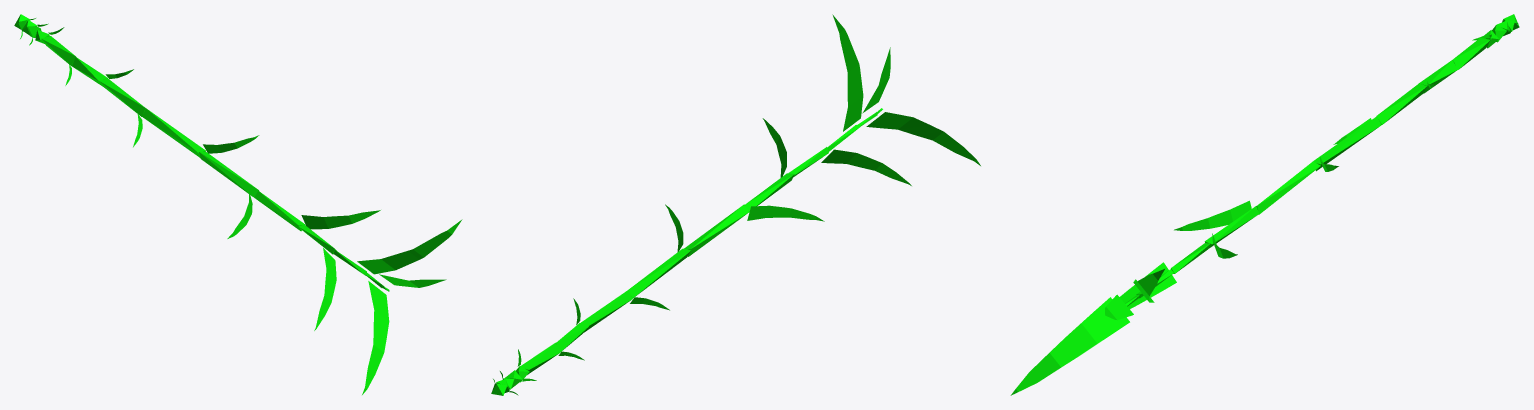
File: usm_18_Beer_2018-08-11_7.obj
3 views of the same model, side by side, from view 1: azimuth 30°, elevation 25°; view 2: azimuth 150°, elevation 25°; view 3: azimuth 330°, elevation 25° (orthographic). The views are drawn at different scales.
Parts seen in each view (by area): view 1: vid_30, vid_28, vid_24, vid_26, vid_19, vid_21, vid_17, vid_23, vid_32, vid_13, vid_20; view 2: vid_30, vid_28, vid_26, vid_19, vid_21, vid_22, vid_17, vid_23, vid_13, vid_32; view 3: vid_30, vid_22, vid_19, vid_21, vid_26, vid_17, vid_23, vid_13, vid_15, vid_32, vid_28.
Boxes of the visible parts, bbox=[...] form: vid_30: bbox=[362, 281, 389, 394]; vid_28: bbox=[357, 219, 462, 274]; vid_24: bbox=[301, 210, 380, 229]; vid_26: bbox=[314, 248, 336, 330]; vid_19: bbox=[142, 108, 205, 157]; vid_21: bbox=[199, 151, 258, 197]; vid_17: bbox=[99, 78, 145, 116]; vid_23: bbox=[254, 191, 305, 231]; vid_32: bbox=[379, 274, 446, 287]; vid_13: bbox=[41, 36, 75, 66]; vid_20: bbox=[203, 135, 259, 153]; vid_30: bbox=[866, 112, 980, 165]; vid_28: bbox=[832, 14, 863, 131]; vid_26: bbox=[821, 149, 911, 185]; vid_19: bbox=[628, 248, 690, 298]; vid_21: bbox=[684, 204, 749, 256]; vid_22: bbox=[747, 205, 824, 221]; vid_17: bbox=[580, 290, 632, 332]; vid_23: bbox=[745, 173, 794, 210]; vid_13: bbox=[521, 342, 560, 374]; vid_32: bbox=[862, 47, 890, 113]; vid_30: bbox=[1010, 297, 1129, 395]; vid_22: bbox=[1174, 200, 1251, 230]; vid_19: bbox=[1313, 116, 1381, 171]; vid_21: bbox=[1256, 161, 1320, 214]; vid_26: bbox=[1119, 262, 1176, 308]; vid_17: bbox=[1376, 84, 1427, 124]; vid_23: bbox=[1204, 206, 1258, 248]; vid_13: bbox=[1452, 38, 1490, 69]; vid_15: bbox=[1418, 60, 1457, 93]; vid_32: bbox=[1105, 294, 1133, 320]; vid_28: bbox=[1133, 269, 1164, 302].
Size of the model in its own units: 44.98 by 46.45 by 257.
